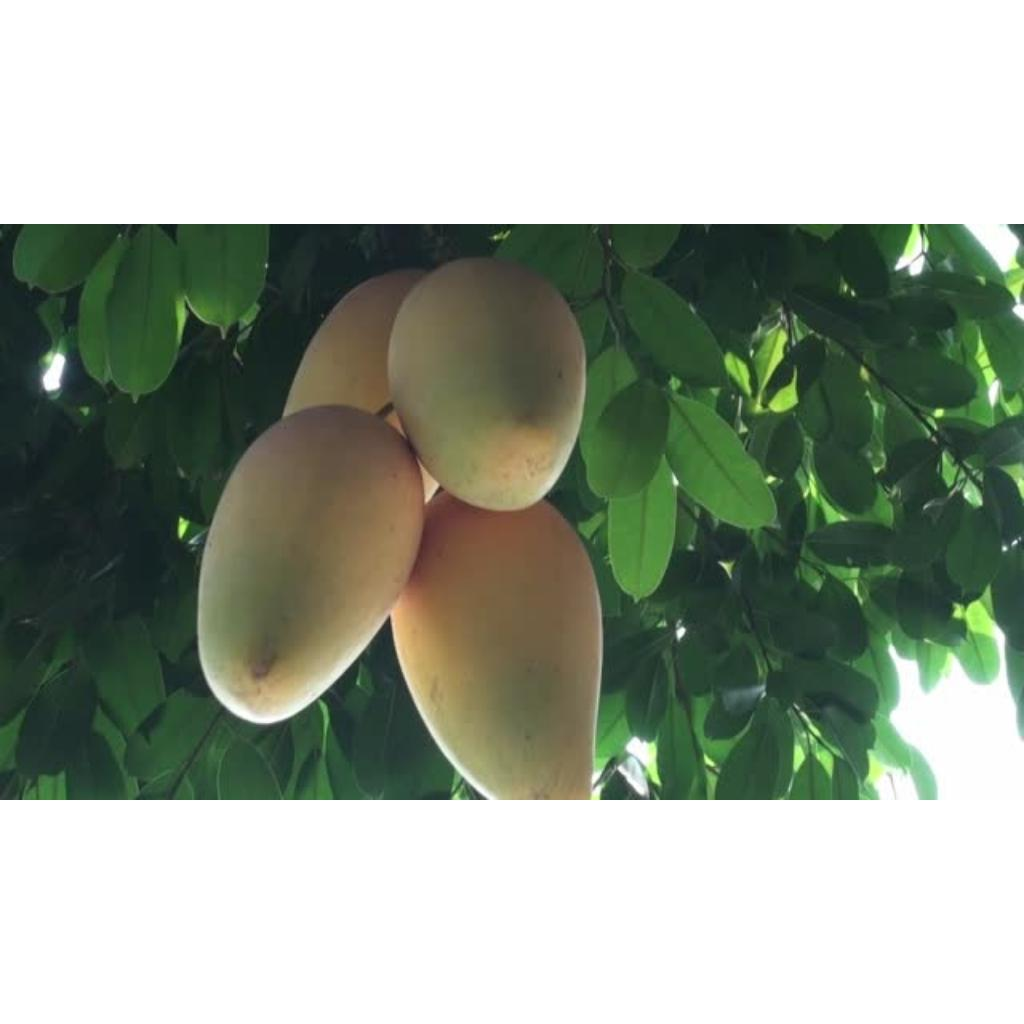mango: (198, 408, 424, 723), (392, 492, 602, 797), (388, 258, 586, 510)
